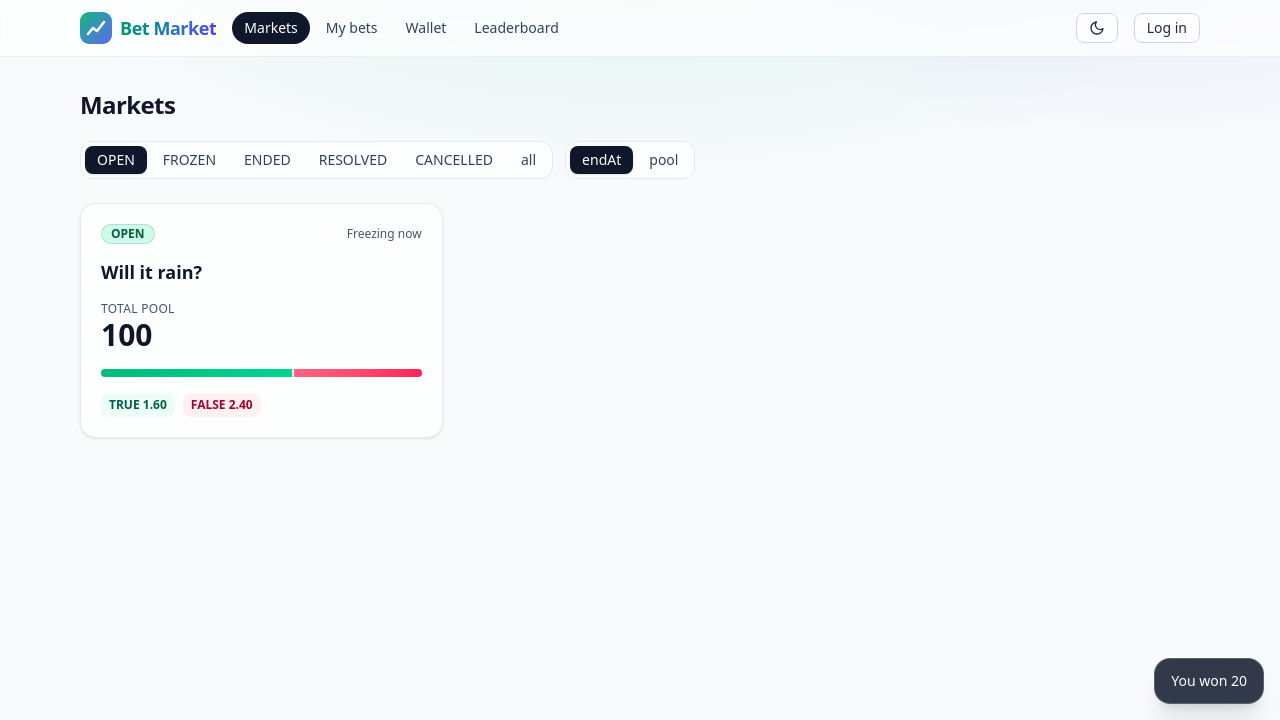
app shows toasts and dismisses them on click
The image size is (1280, 720).
Step 1. Click the button "You won 20" → [1209, 681], box [1154,658,1264,704]
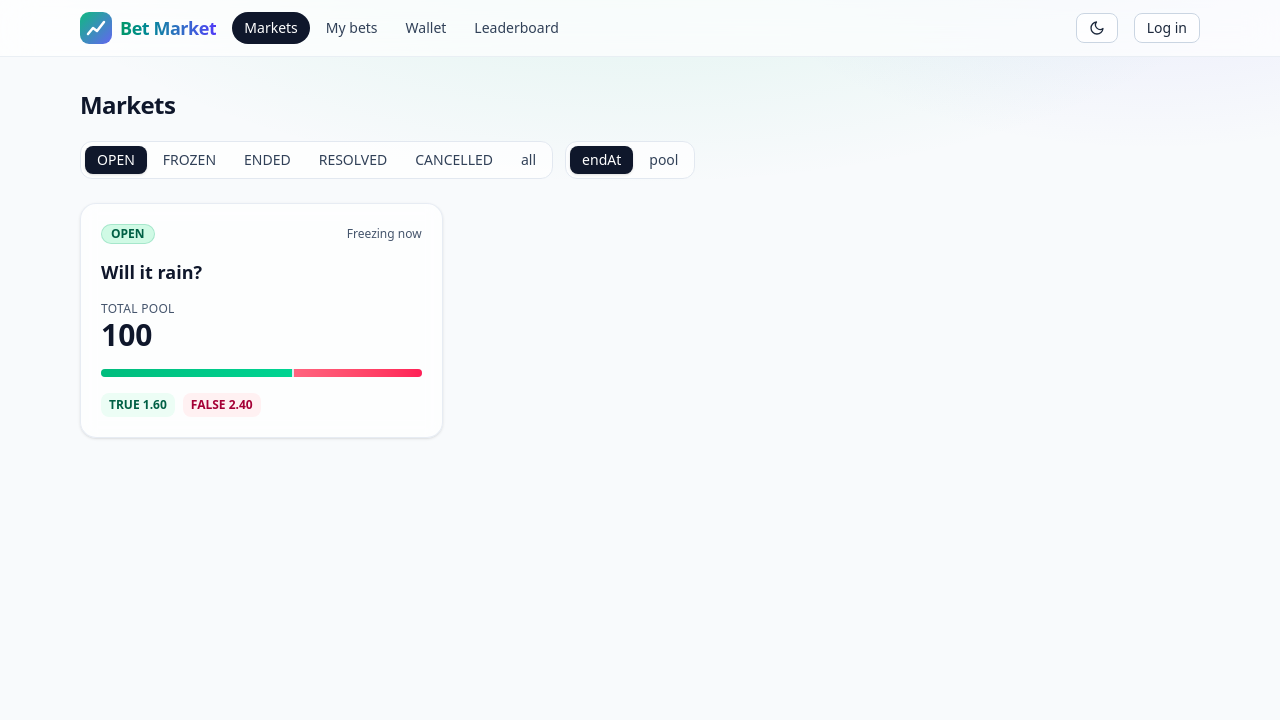
Expected: the button "You won 20" is gone
